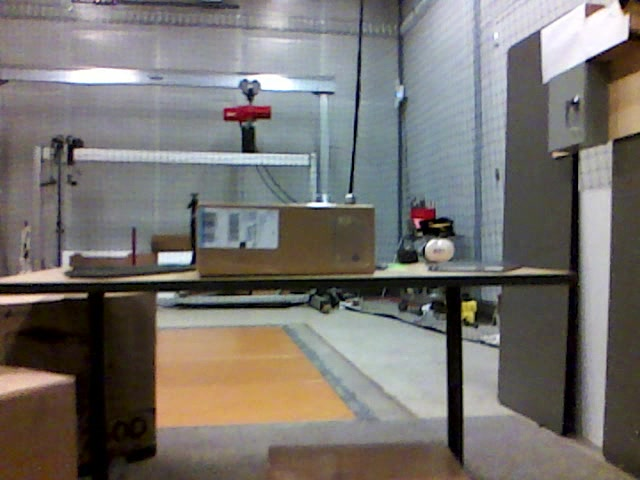box: (1, 296, 156, 462), (196, 203, 375, 275), (1, 367, 79, 480), (268, 442, 467, 480)
